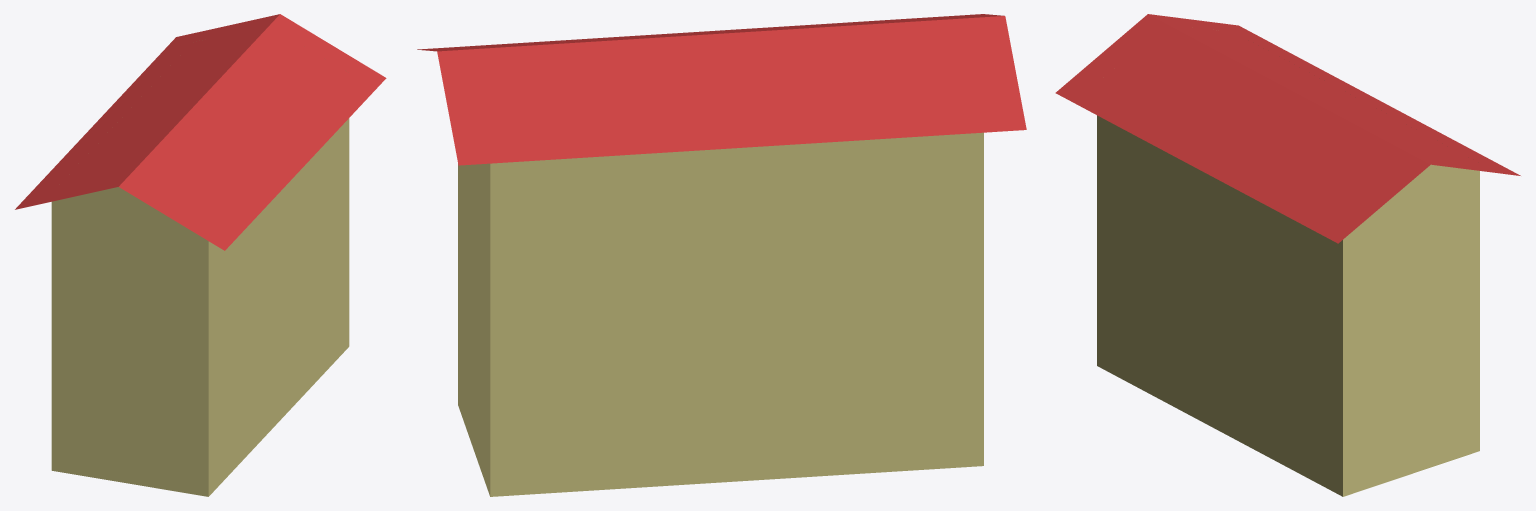
3 views of the same model, side by side, from view 1: azimuth 30°, elevation 25°; view 2: azimuth 150°, elevation 25°; view 3: azimuth 270°, elevation 25° (orthographic). The views are drawn at different scales.
Size of the model in its own units: 8.43 by 7.83 by 5.9.
